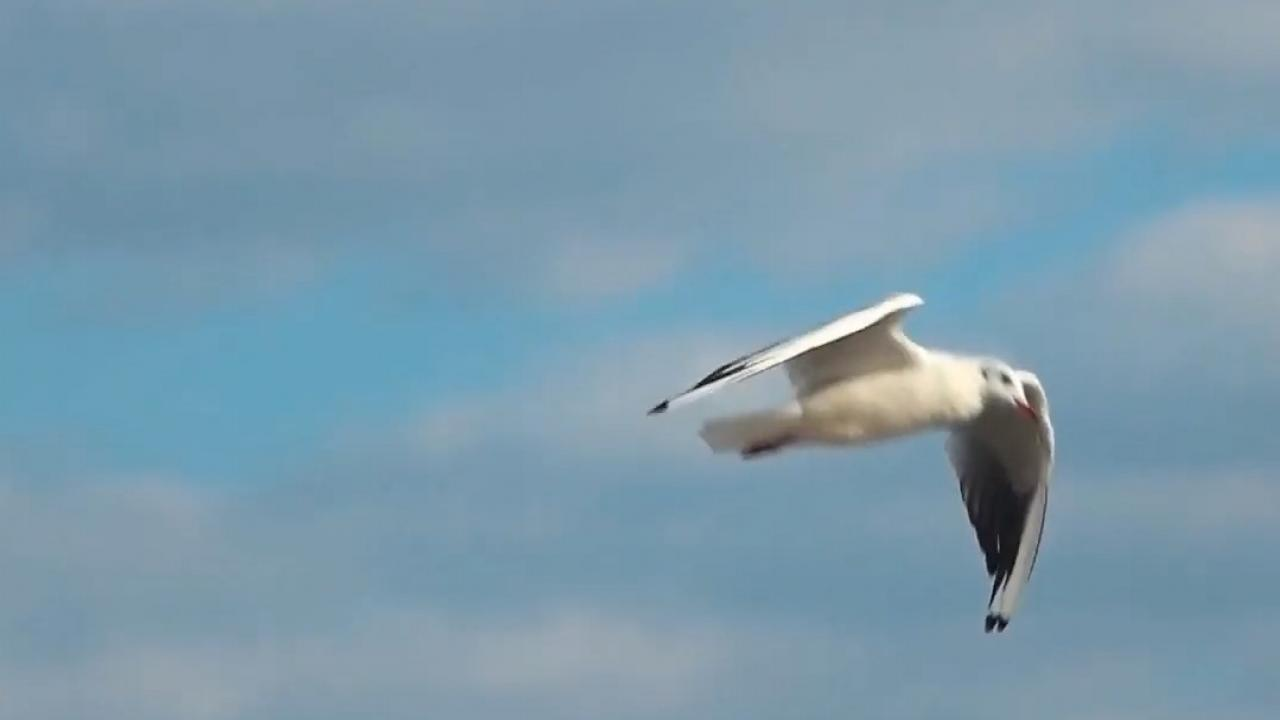Bird: (636, 283, 1065, 646)
